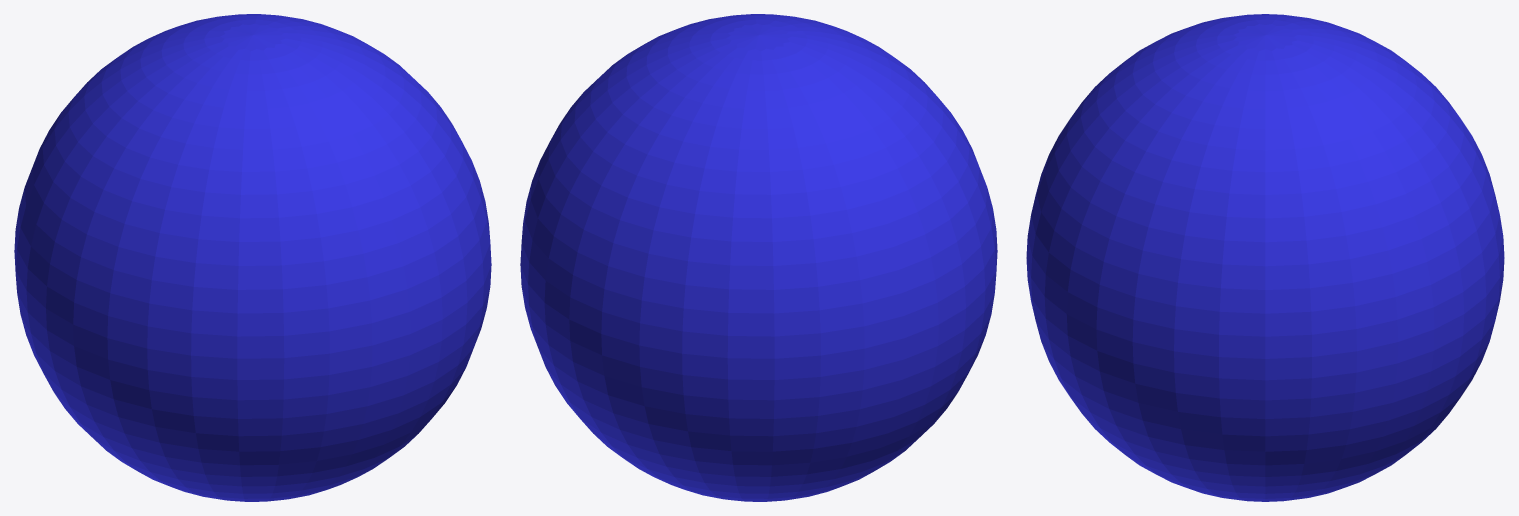
File: earth.fbx
3 renders of one model, left to right at view 1: azimuth 30°, elevation 25°; view 2: azimuth 150°, elevation 25°; view 3: azimuth 270°, elevation 25°, orthographic.
Parts seen in each view (by area): view 1: Sphere; view 2: Sphere; view 3: Sphere.
Boxes of the visible parts, left/top/right/bottom form: Sphere: left=14, top=14, right=491, bottom=501; Sphere: left=520, top=14, right=997, bottom=501; Sphere: left=1026, top=14, right=1504, bottom=501.
Bounding box in the file's own units: 194 × 199 × 194.
